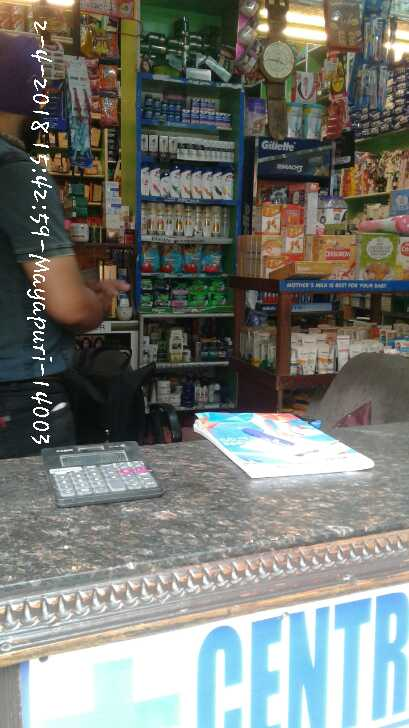vicks: (145, 91, 233, 131)
